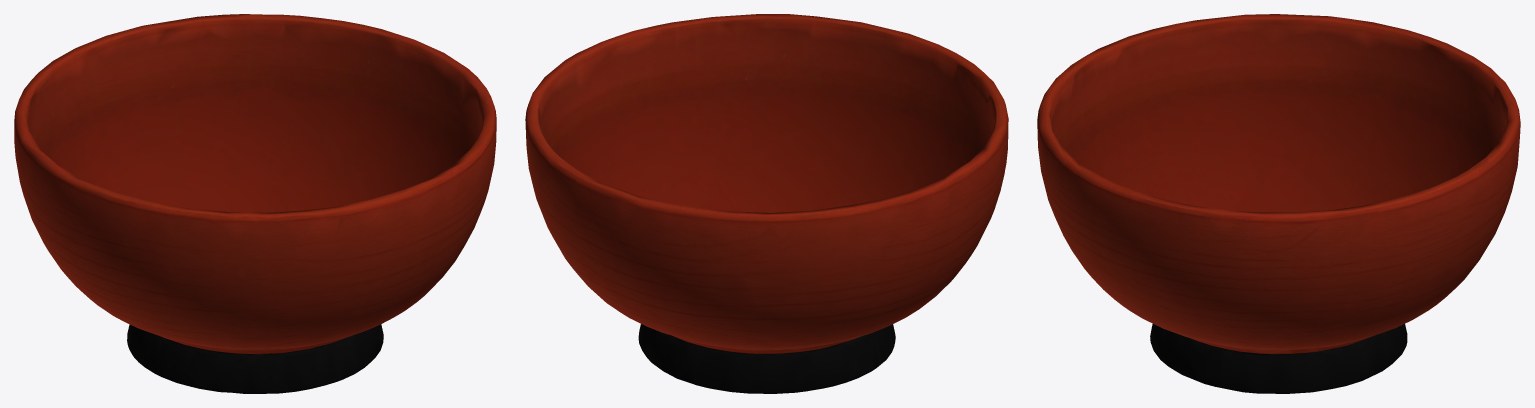
The model's file is Bowl.fbx.
3 views of the same model, side by side, from view 1: azimuth 30°, elevation 25°; view 2: azimuth 150°, elevation 25°; view 3: azimuth 270°, elevation 25° (orthographic).
Visible parts, largest first — view 1: bowl; view 2: bowl; view 3: bowl.
Part boxes in pixels (box(x1,y1,x2,y2)): bowl: box(14, 14, 496, 393); bowl: box(525, 14, 1008, 393); bowl: box(1037, 14, 1520, 393).
Size of the model in its own units: 11.98 by 6.2 by 12.
Materials: 1 (1 with a texture image).
